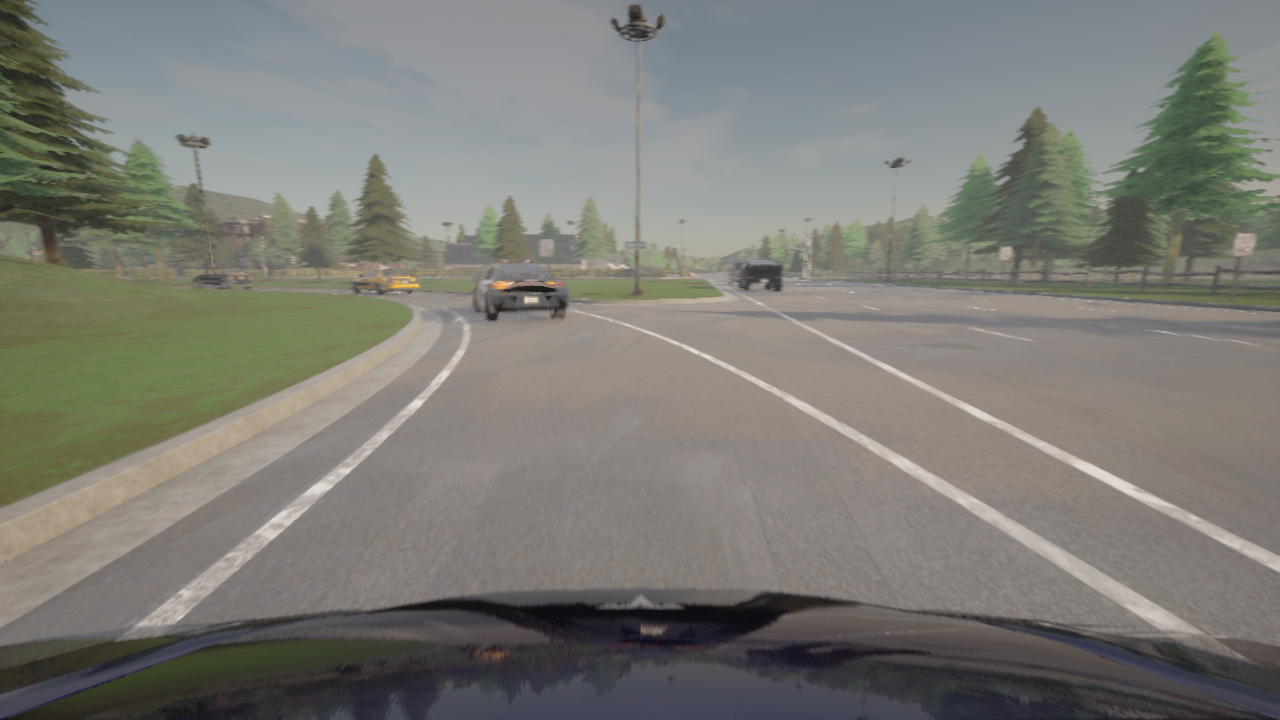cyclist: (0, 588, 1279, 719), (473, 260, 568, 320), (351, 265, 419, 294), (738, 259, 782, 290), (193, 267, 252, 289), (727, 257, 750, 284)
